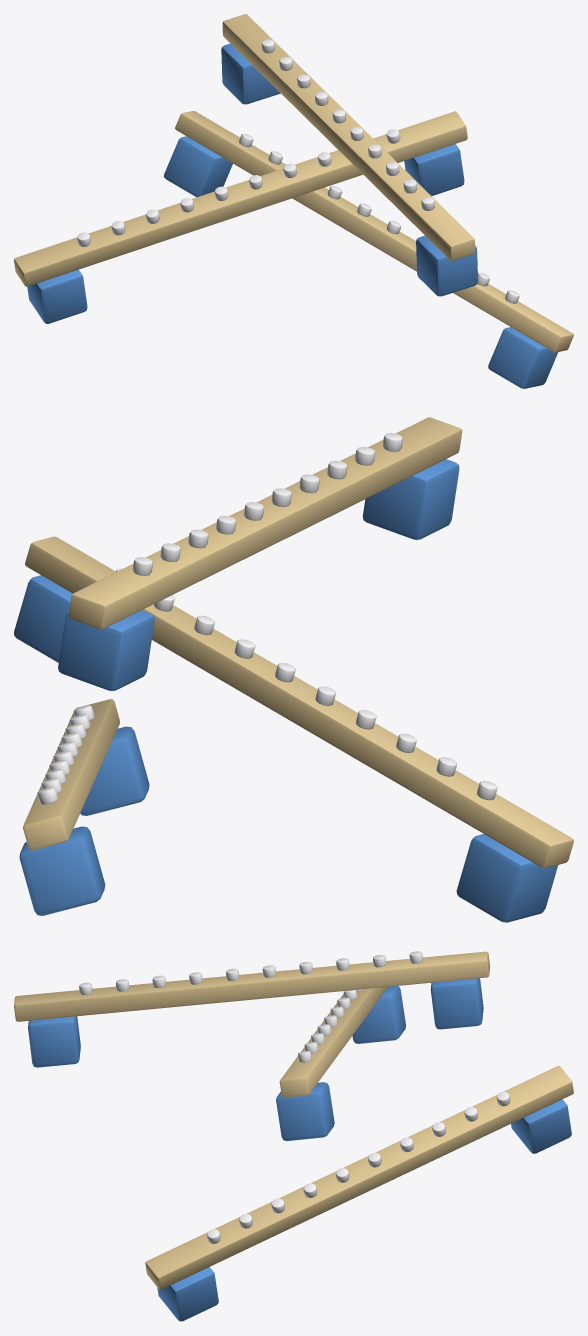
The model's file is ELE-QDR-008_anim.glb.
3 views of the same model, one above another, from view 1: azimuth 30°, elevation 25°; view 2: azimuth 150°, elevation 25°; view 3: azimuth 270°, elevation 25° (orthographic). The views are drawn at different scales.
Parts seen in each view (by area): view 1: ELE-QDR-008_anim1, ELE-QDR-008_anim2, ELE-QDR-008_anim0; view 2: ELE-QDR-008_anim1, ELE-QDR-008_anim2, ELE-QDR-008_anim0; view 3: ELE-QDR-008_anim0, ELE-QDR-008_anim2, ELE-QDR-008_anim1.
Boxes of the visible parts, x1=… form: ELE-QDR-008_anim1: x1=14, y1=111, x2=467, y2=323; ELE-QDR-008_anim2: x1=221, y1=14, x2=478, y2=296; ELE-QDR-008_anim0: x1=164, y1=111, x2=573, y2=388; ELE-QDR-008_anim1: x1=14, y1=536, x2=573, y2=922; ELE-QDR-008_anim2: x1=58, y1=417, x2=462, y2=690; ELE-QDR-008_anim0: x1=19, y1=699, x2=149, y2=915; ELE-QDR-008_anim0: x1=145, y1=1066, x2=573, y2=1321; ELE-QDR-008_anim2: x1=14, y1=951, x2=489, y2=1067; ELE-QDR-008_anim1: x1=276, y1=986, x2=405, y2=1141.
Bounding box in the file's own units: 0.2154 × 0.1355 × 0.2348.
